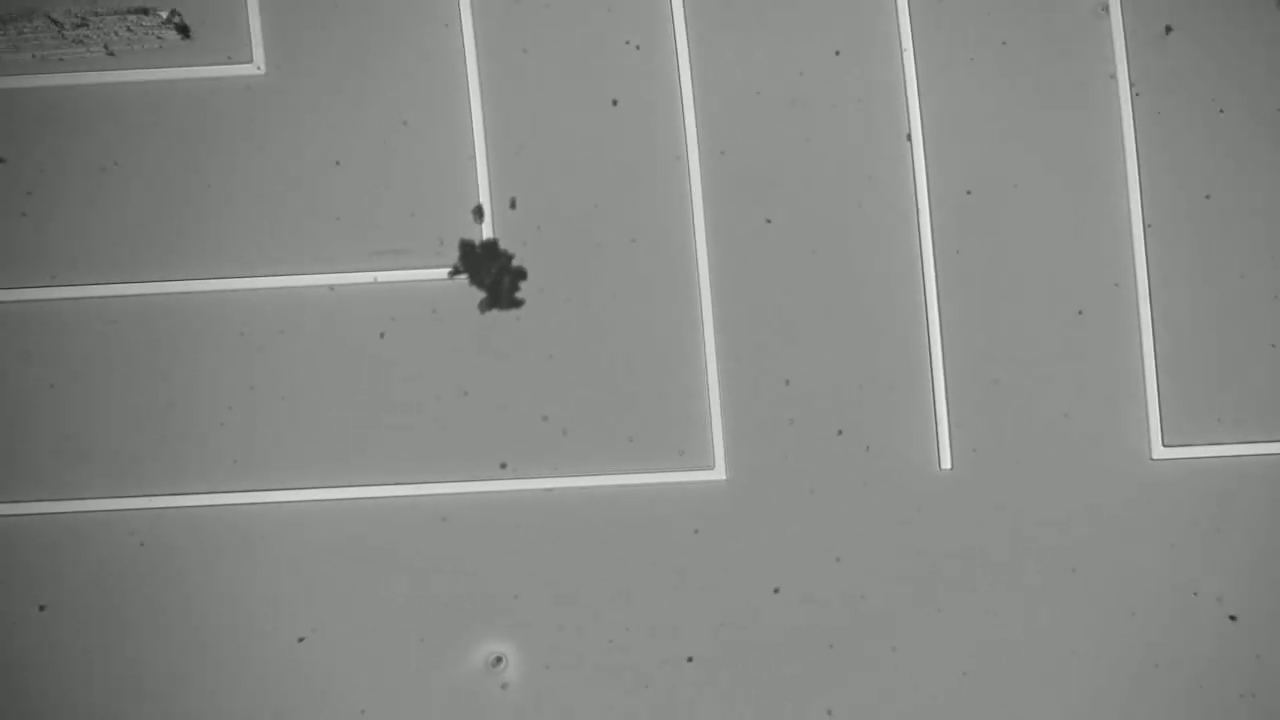scratch: (1, 1, 201, 63)
stains_enbedded: (428, 205, 542, 320)
